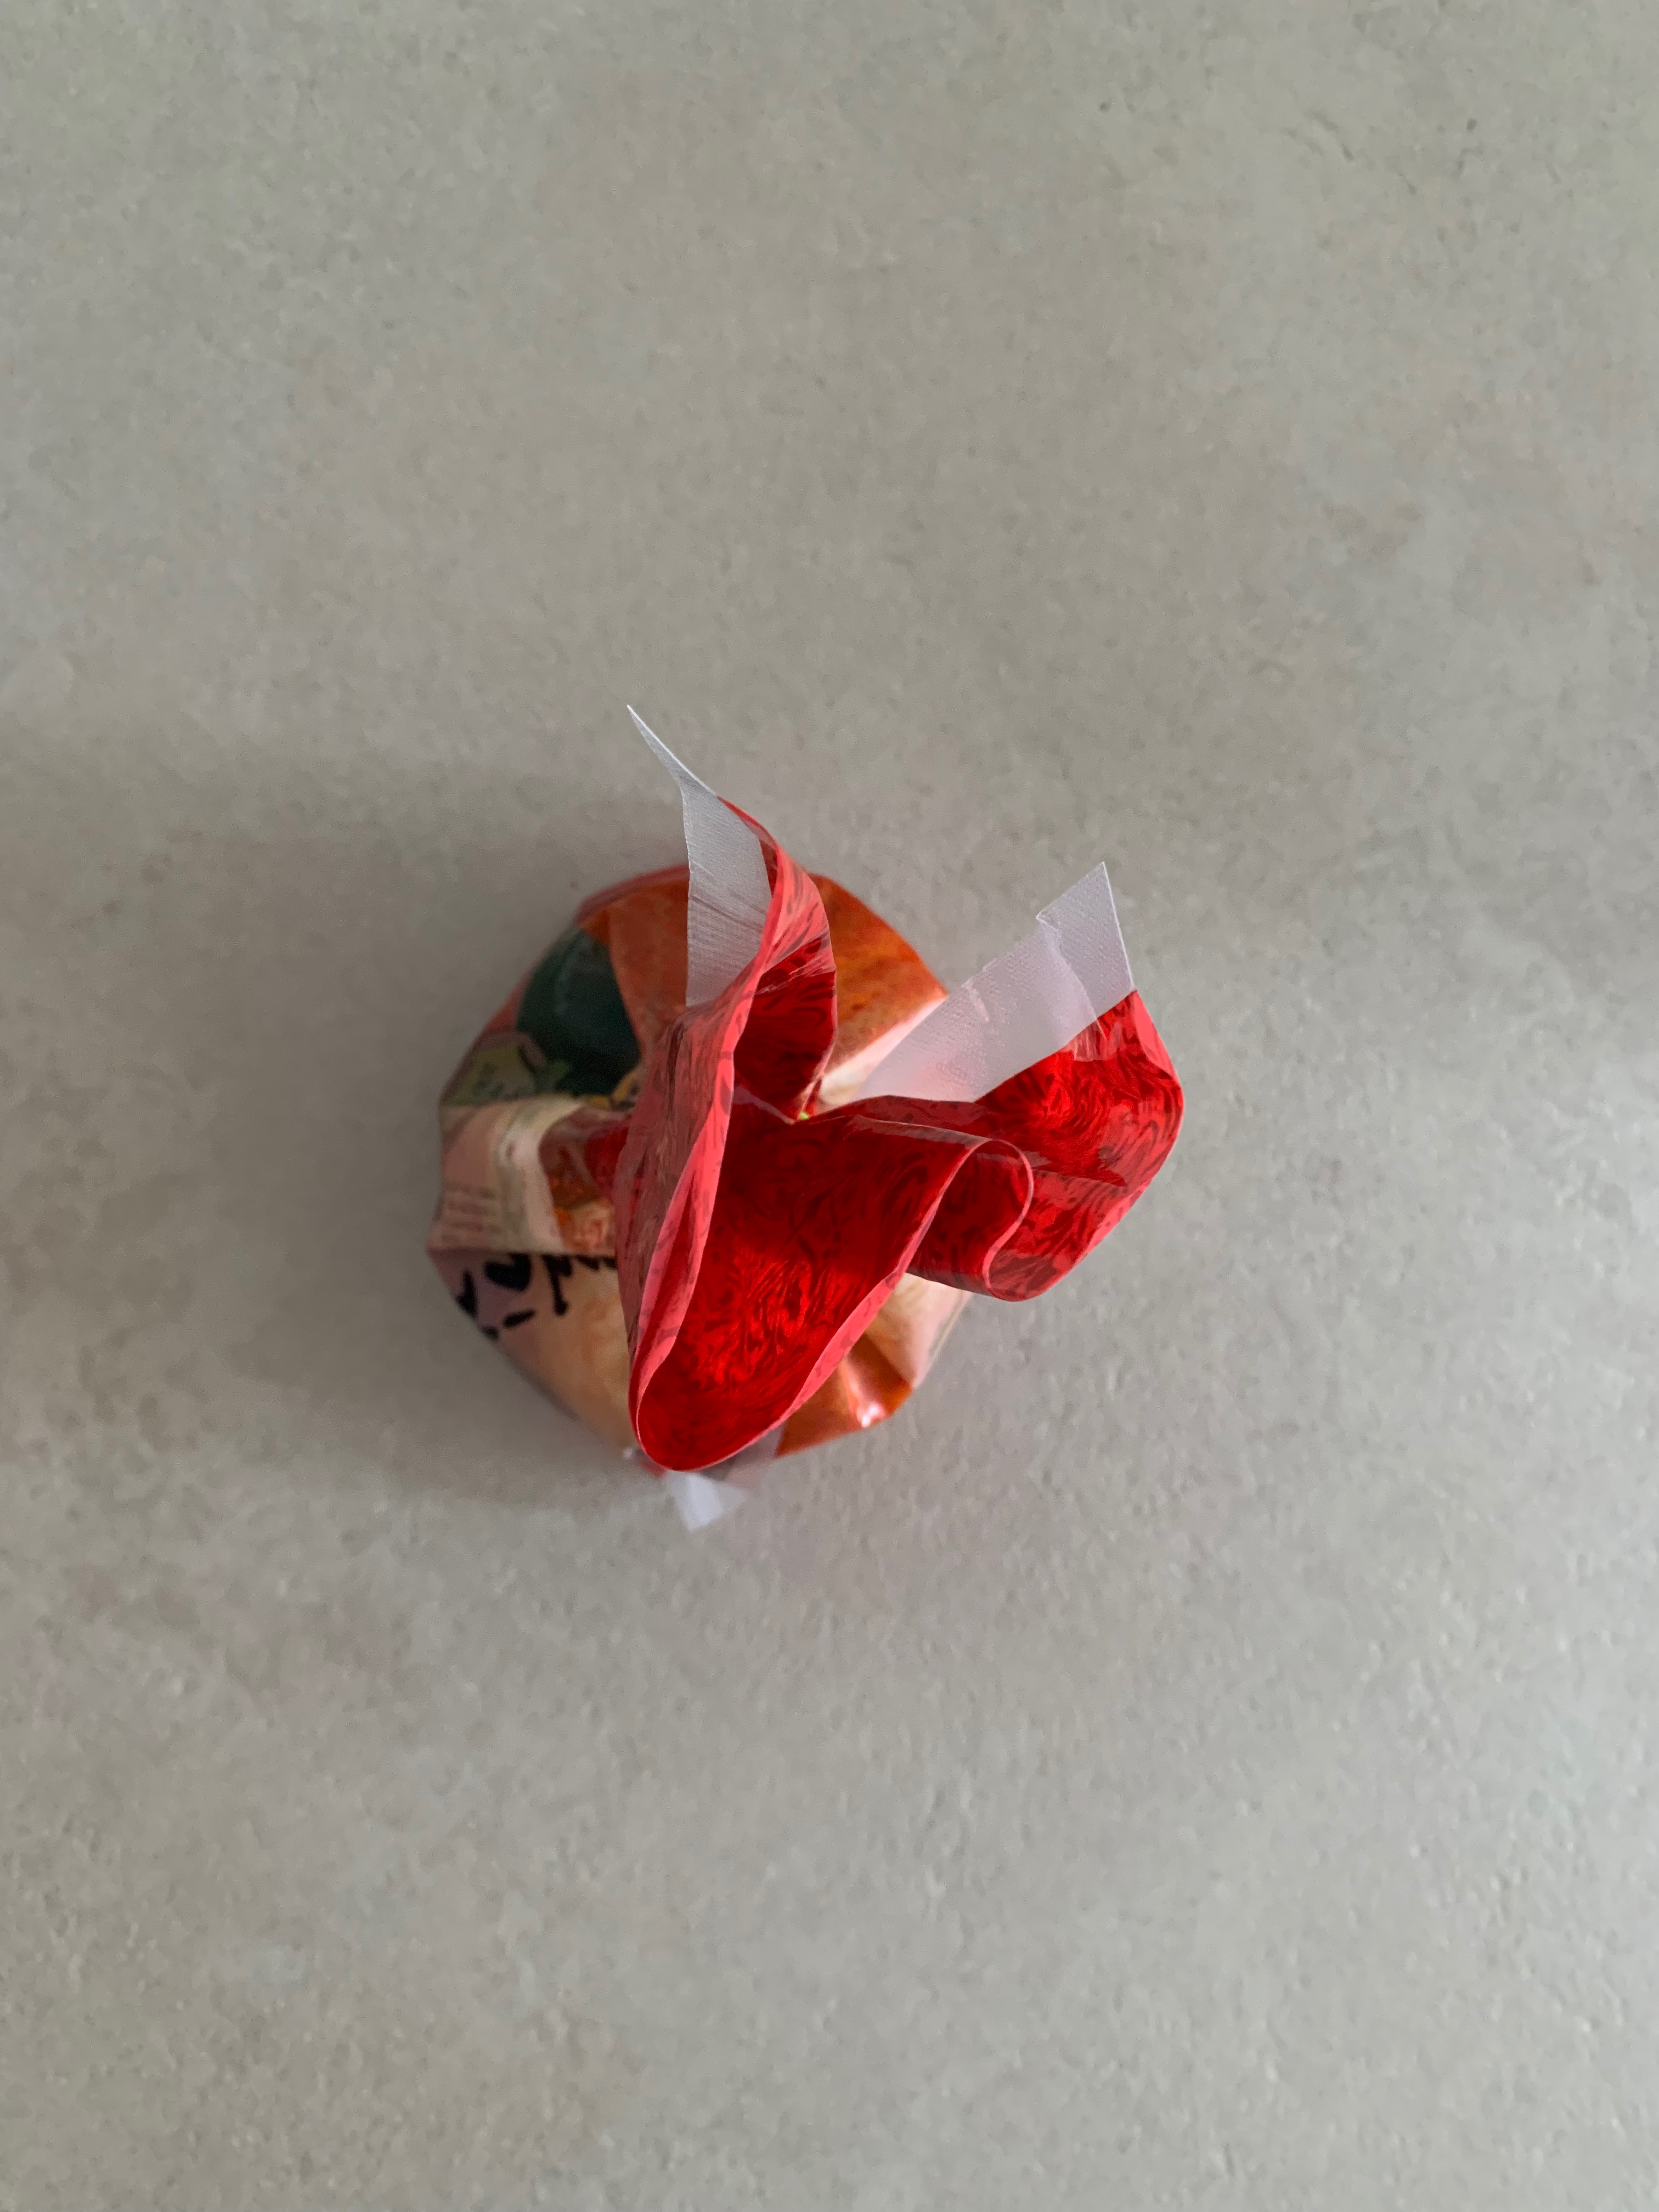kimchi: (432, 791, 1188, 1468)
